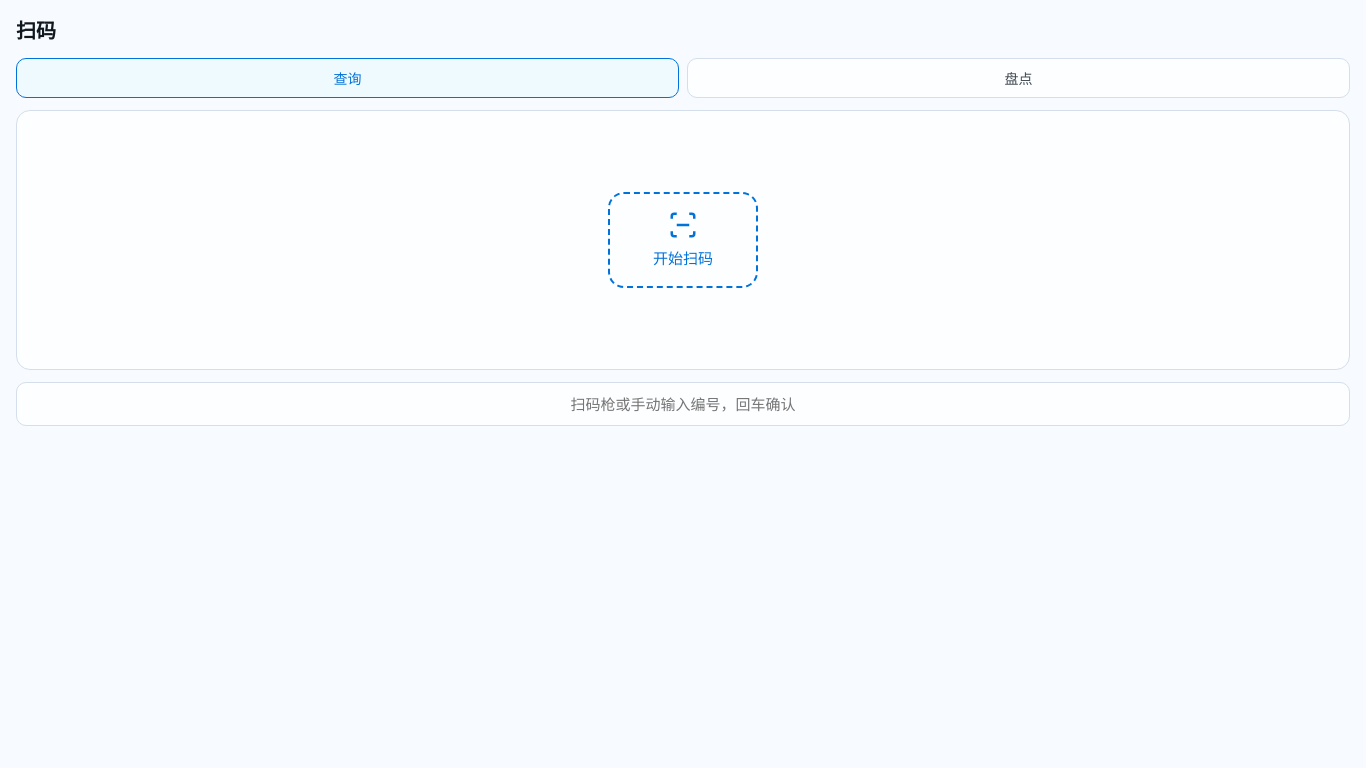
ScanAsset 统一扫码器 › 查询模式：手输回车出资产卡片
In the field with class "manual-input": point(683, 404) [16,382,1350,426], type "A-a00008-BJ001-1"
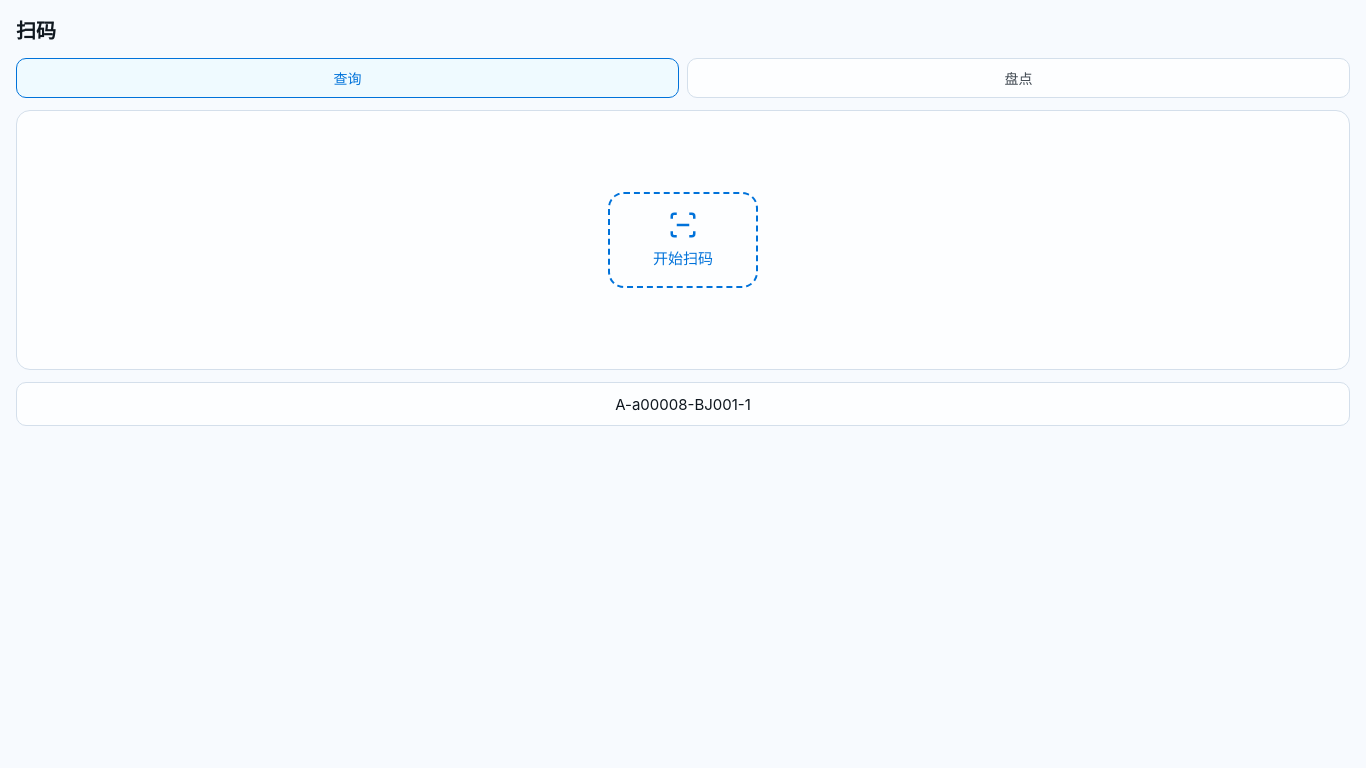
Press Enter in the field with class "manual-input", box [16,382,1350,426]
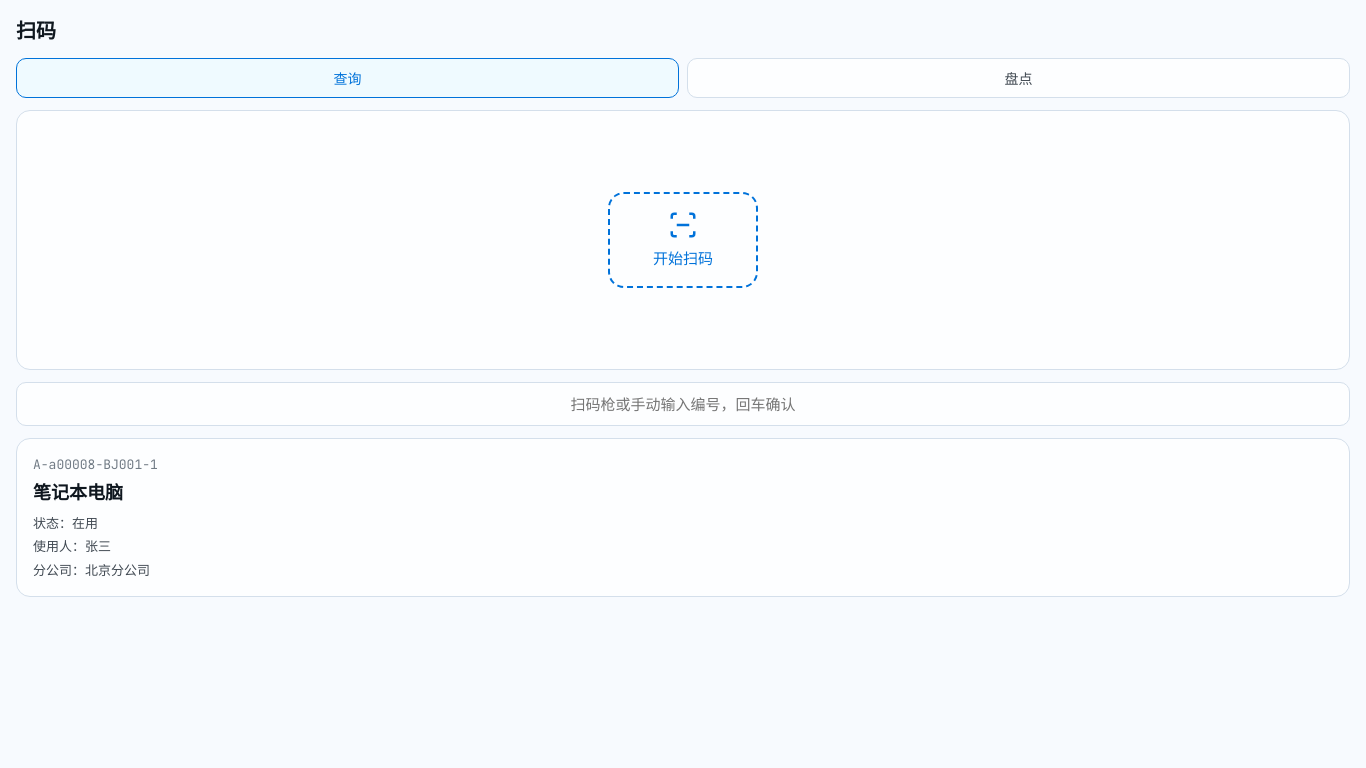
expect the element with class "asset-card" is shown: met, box [16,438,1350,597]
expect the element with class "asset-card" shows "A-a00008-BJ001-1": met, box [33,456,158,473]
expect the element with class "asset-card" shows "笔记本电脑": met, box [33,482,123,502]
